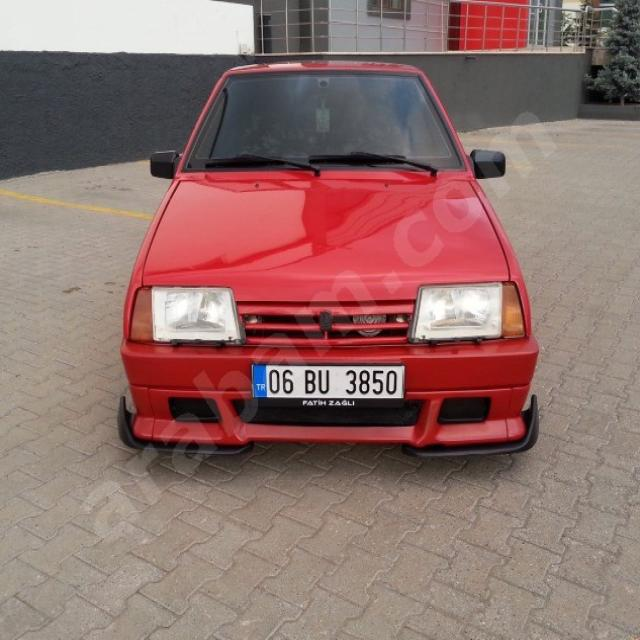license_plate: (252, 365, 405, 399)
